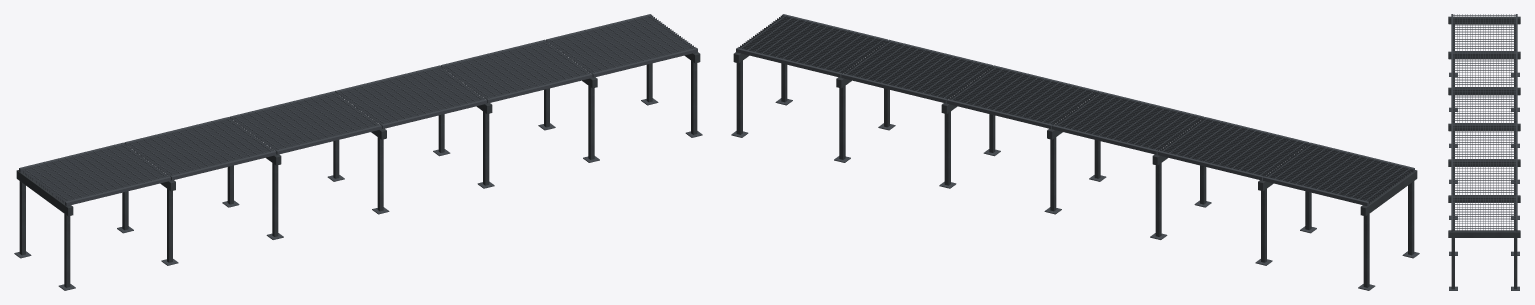
The model's file is EngineCatwalk.glb.
The picture shows the model from 3 angles, left to right: view 1: azimuth 30°, elevation 25°; view 2: azimuth 150°, elevation 25°; view 3: azimuth 270°, elevation 25°; orthographic projection. The views are drawn at different scales.
Parts seen in each view (by area): view 1: EngineCatwalk_Body; view 2: EngineCatwalk_Body; view 3: EngineCatwalk_Body.
Boxes of the visible parts, x1,y1,x2,y2 form: EngineCatwalk_Body: [14, 14, 702, 290]; EngineCatwalk_Body: [731, 14, 1419, 290]; EngineCatwalk_Body: [1448, 14, 1520, 290].
Bounding box in the file's own units: 9.28 × 1.2 × 1.3.
2 materials, 1 textured.
